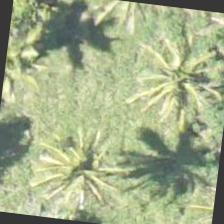Kelapa_Sawit: (20, 113, 120, 213), (125, 39, 223, 140)
